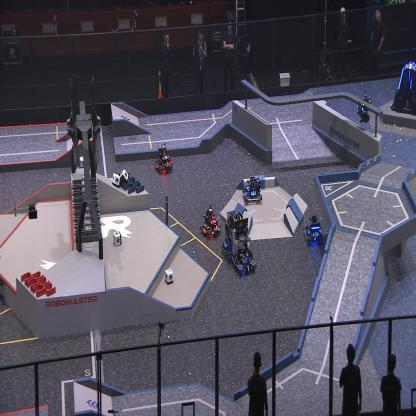car: (230, 218, 258, 273), (222, 208, 242, 259), (199, 205, 221, 239), (304, 214, 324, 245), (154, 144, 173, 175), (242, 176, 263, 204)
